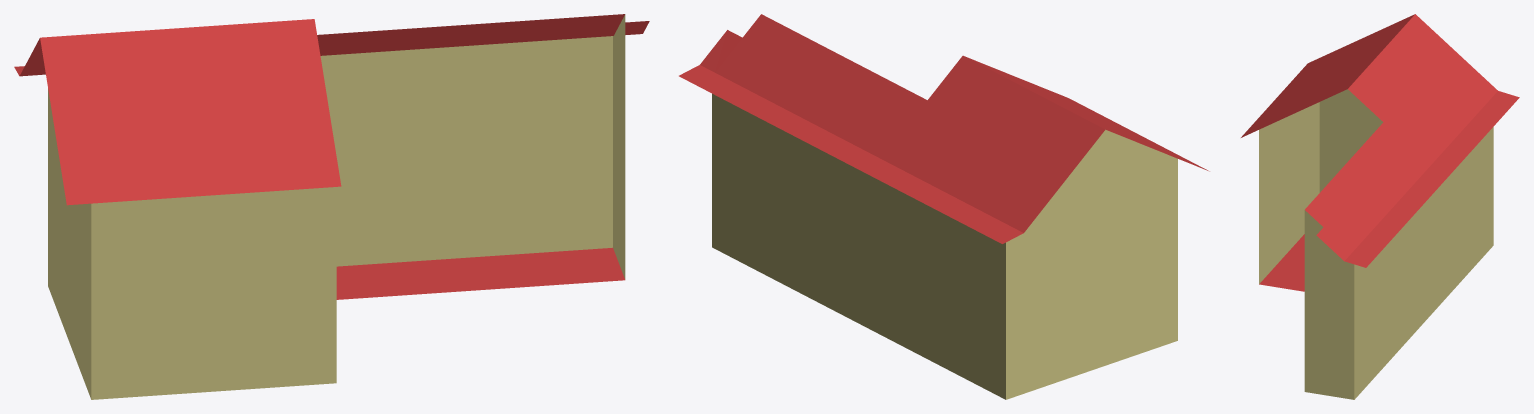
3 renders of one model, left to right at view 1: azimuth 30°, elevation 25°; view 2: azimuth 150°, elevation 25°; view 3: azimuth 270°, elevation 25°, orthographic. The views are drawn at different scales.
Bounding box in the file's own units: 17.95 × 10.37 × 8.57.
